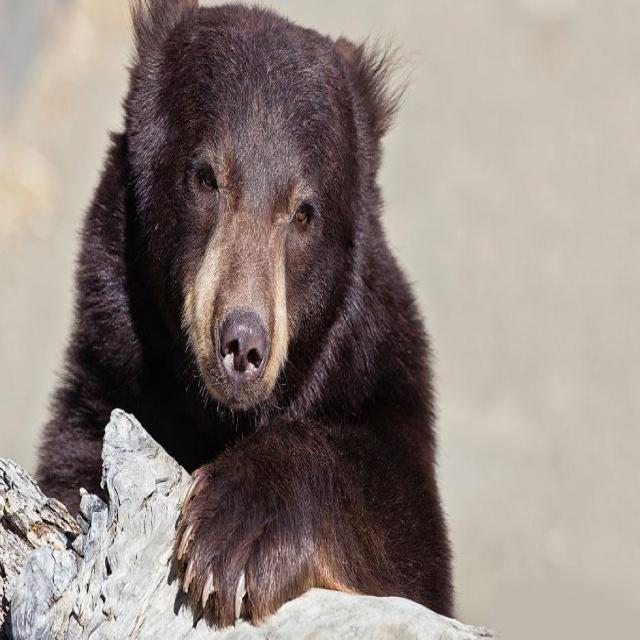Bear: (33, 0, 457, 631)
